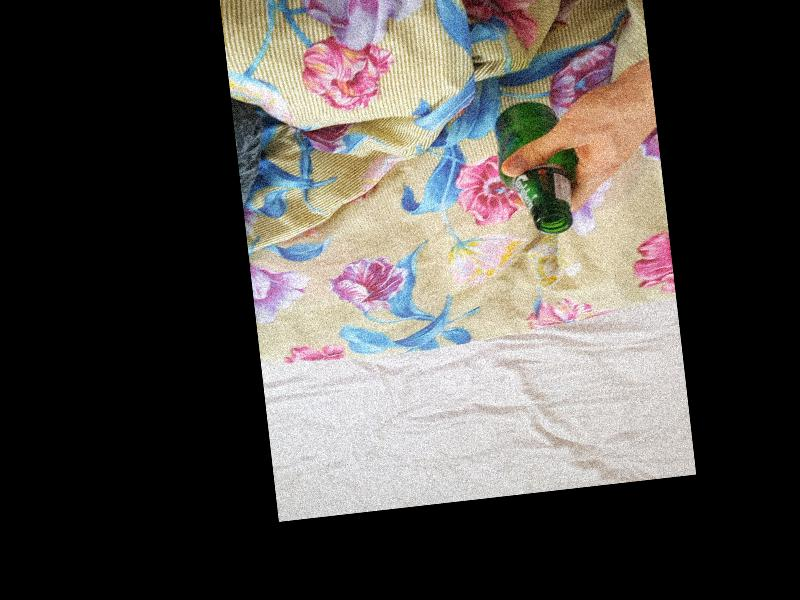Beer: (493, 96, 586, 237)
